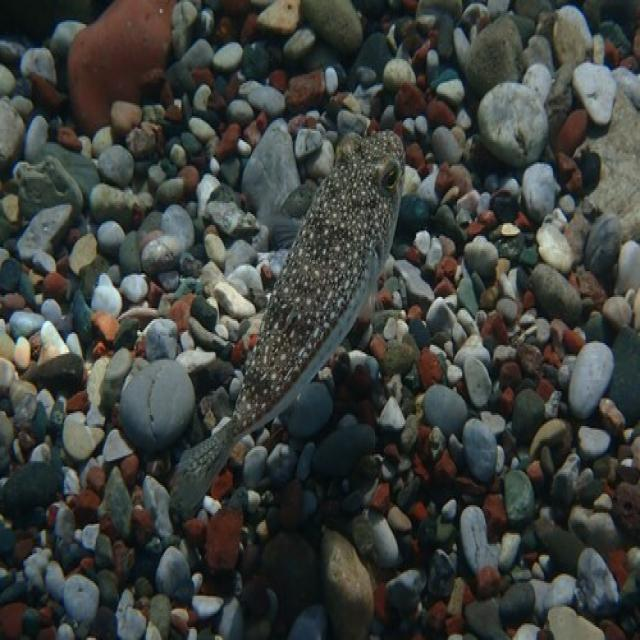Balik: (172, 131, 404, 516)
